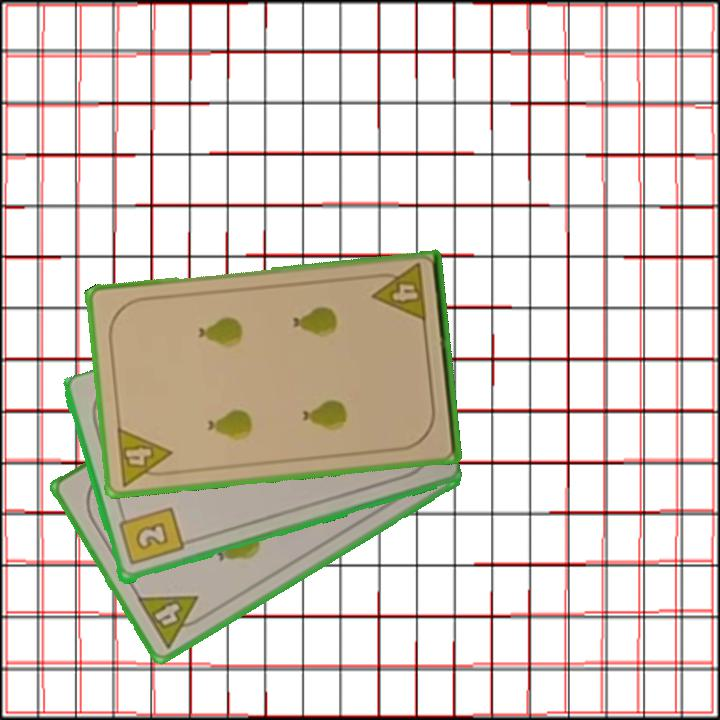2b: (114, 504, 186, 569)
4p: (133, 592, 211, 652), (113, 424, 176, 489), (368, 260, 430, 325)
